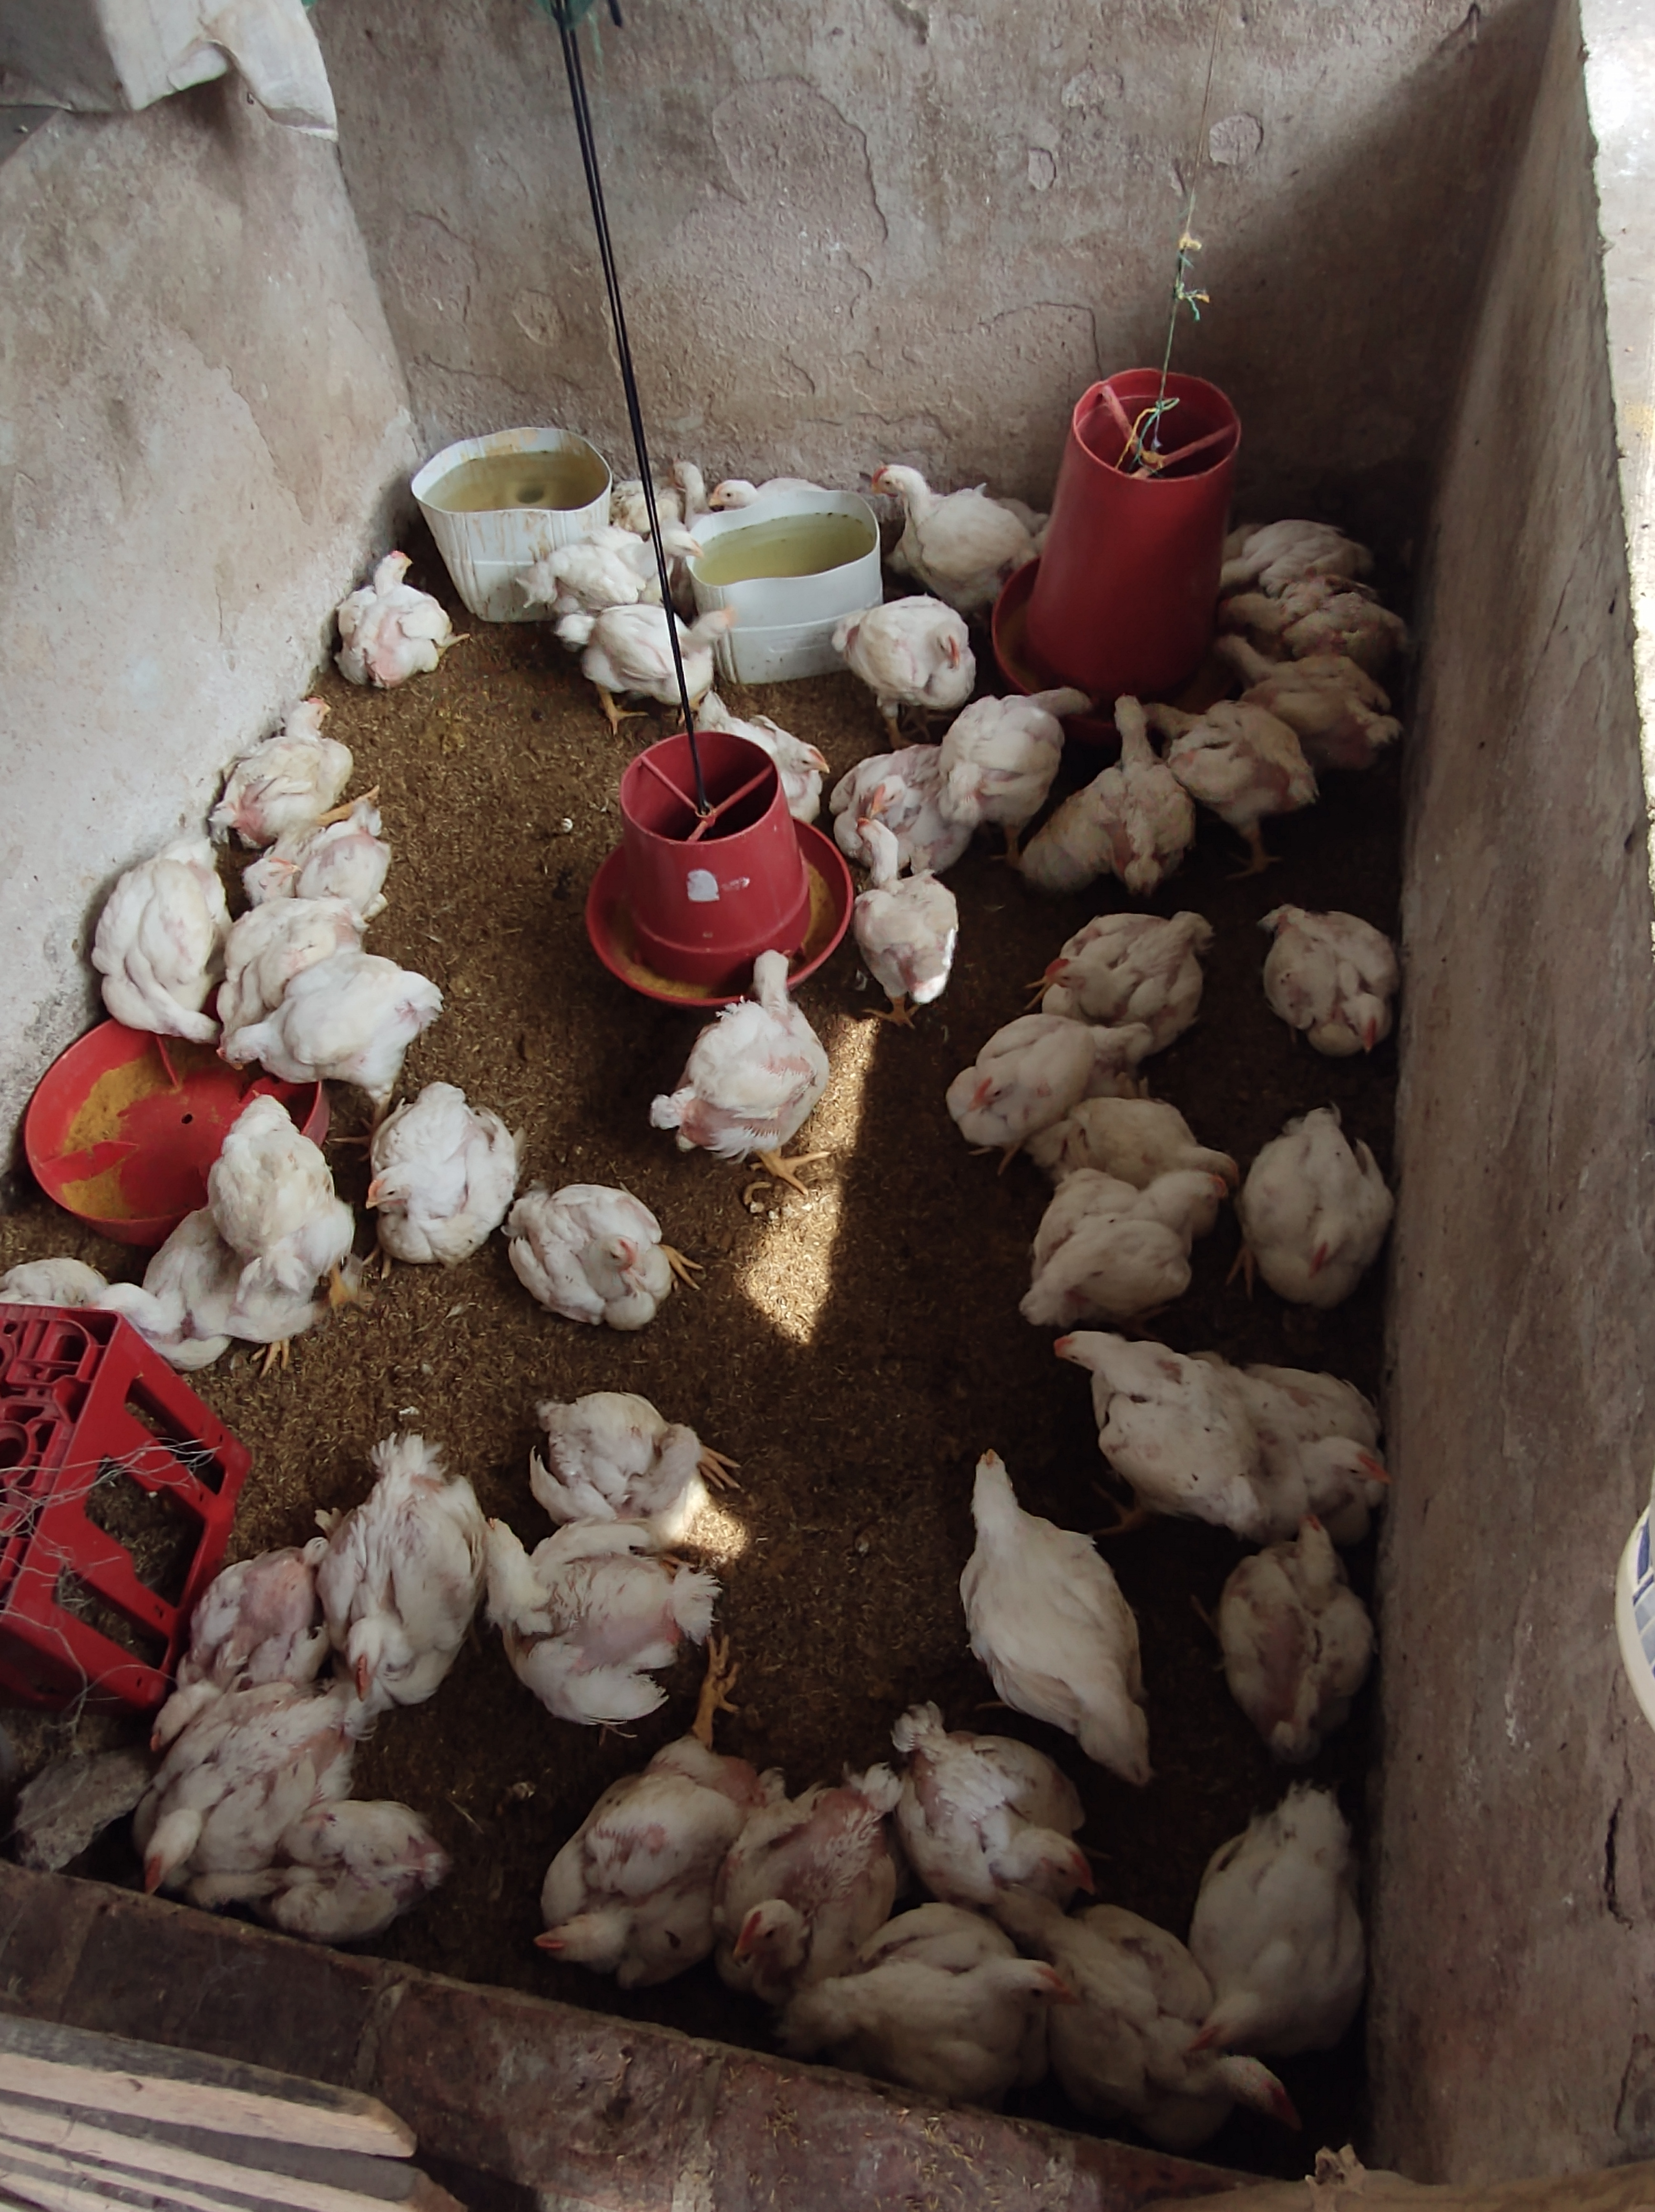Pollos: (956, 1450, 1165, 1763), (1175, 1782, 1365, 2061), (129, 1680, 346, 1899), (539, 1730, 721, 1981), (475, 1508, 681, 1718), (322, 1462, 469, 1711), (1227, 1516, 1379, 1751), (669, 941, 824, 1162), (1010, 1169, 1234, 1313), (732, 1779, 897, 1974), (252, 1802, 455, 1953), (916, 1727, 1099, 1894), (861, 1908, 1080, 2045), (228, 944, 449, 1076), (532, 1391, 728, 1534), (362, 1108, 509, 1271), (947, 1016, 1135, 1141), (833, 821, 960, 1003), (1041, 1323, 1215, 1452), (103, 826, 212, 1029), (508, 1186, 678, 1316), (214, 1096, 329, 1287), (1215, 635, 1399, 753), (1278, 1109, 1384, 1311), (866, 459, 1041, 579), (1252, 909, 1403, 1047), (1033, 908, 1213, 1017), (954, 683, 1087, 821), (210, 699, 344, 831), (1156, 696, 1307, 810), (1090, 690, 1182, 873), (1269, 1377, 1387, 1513), (334, 548, 452, 680), (249, 812, 395, 906), (598, 603, 737, 697), (840, 602, 970, 690), (558, 522, 697, 595), (1219, 570, 1368, 624), (848, 746, 937, 814), (704, 463, 826, 506), (782, 736, 836, 793)
